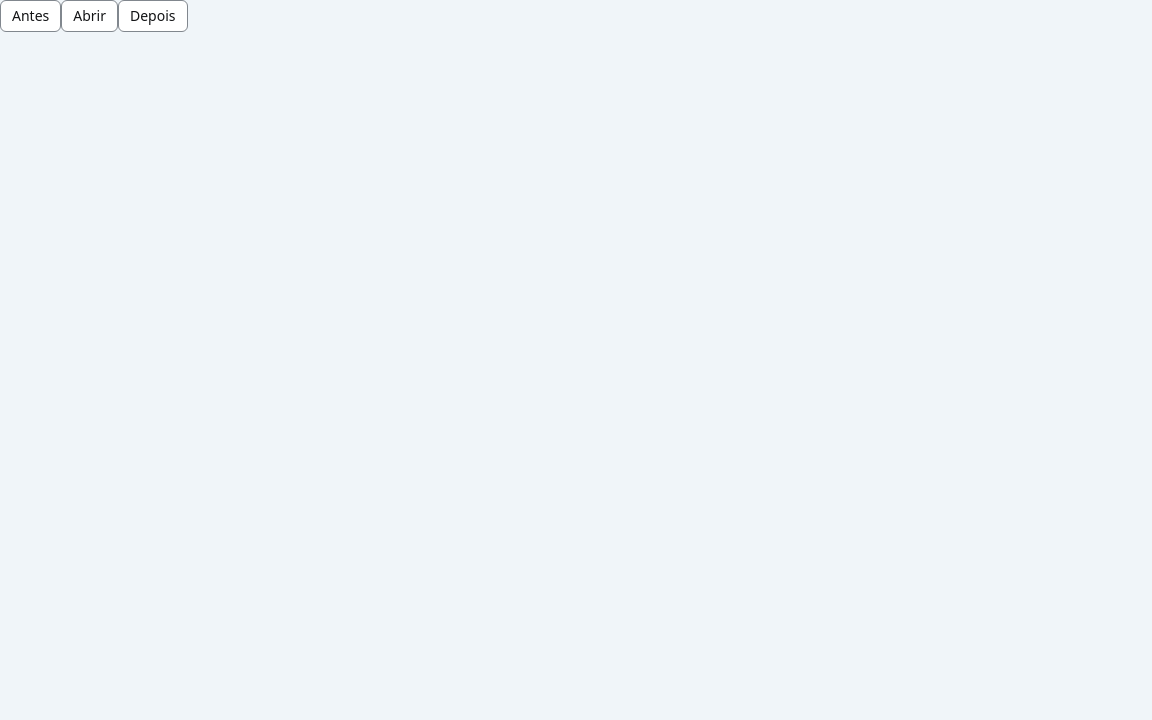
it: Dialog › {Escape}: não rouba o foco que a feature moveu
Click the button "Abrir".
click(90, 16)  # box [61,0,118,32]
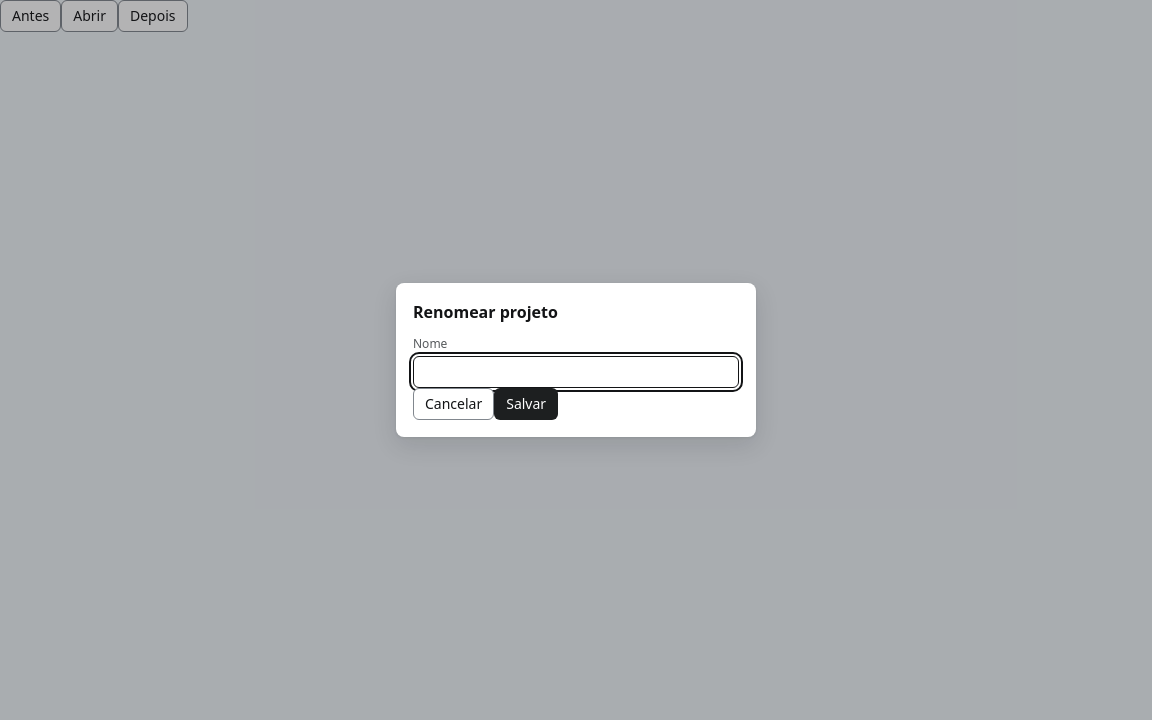
Press Escape
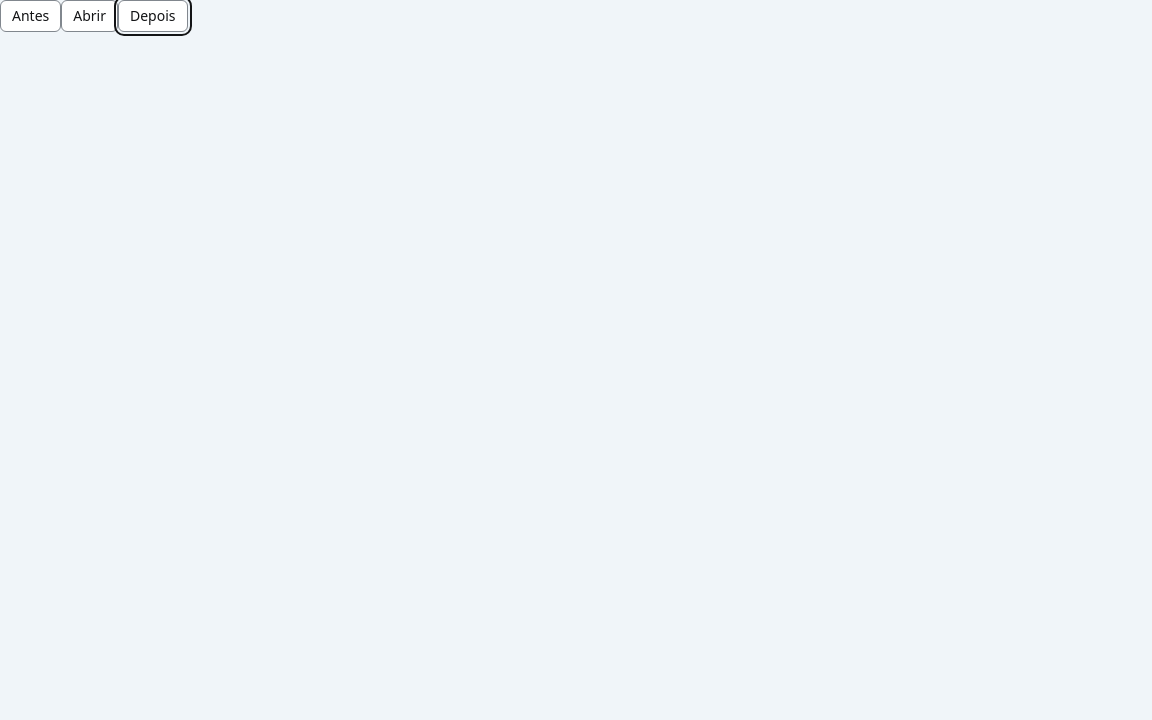
Expected: the dialog is gone
